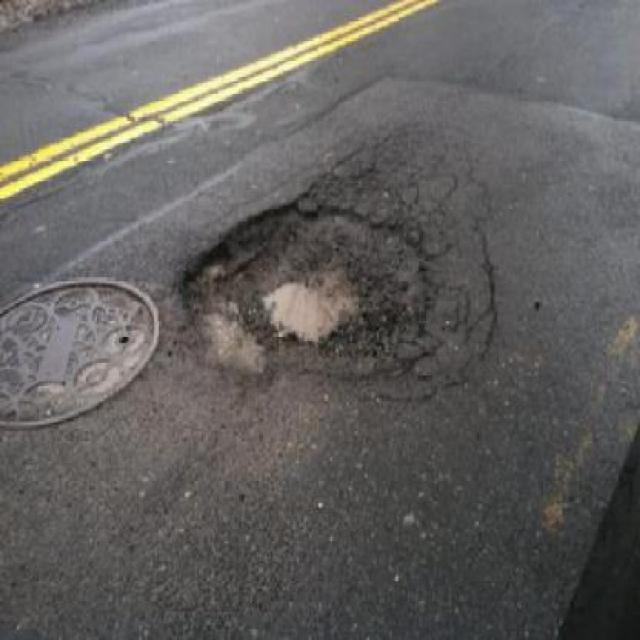pothole: (180, 196, 437, 379)
